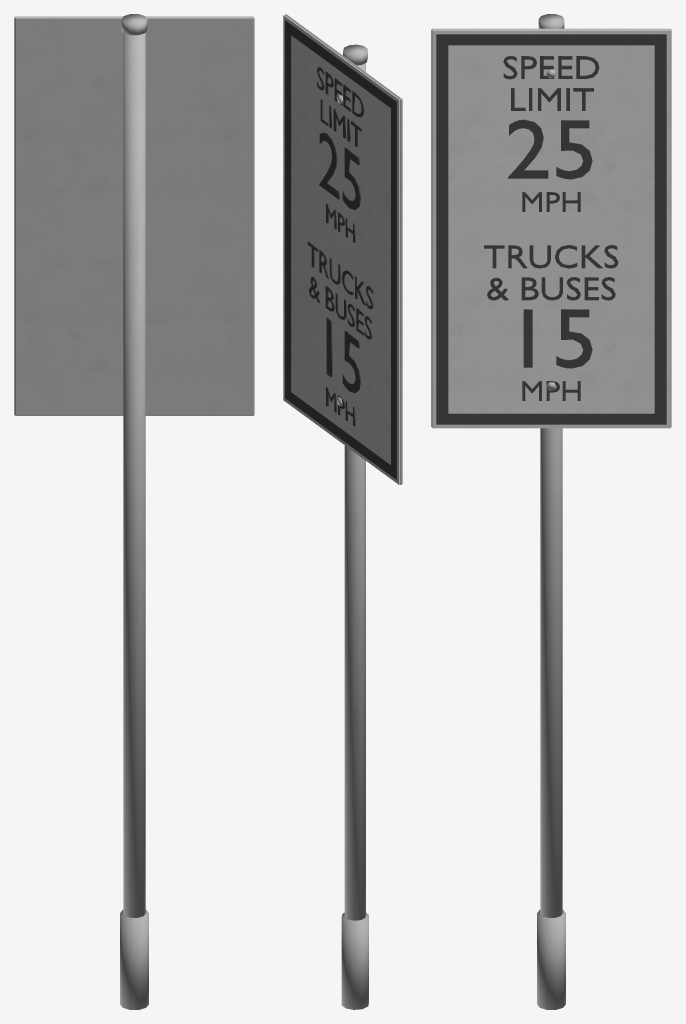
The model's file is BC2_SPEEDSIGN01.glb.
3 views of the same model, side by side, from view 1: azimuth 90°, elevation 25°; view 2: azimuth 210°, elevation 25°; view 3: azimuth 270°, elevation 25° (orthographic). The views are drawn at different scales.
Visible parts, largest first — view 1: BC2_SPEEDSIGN01_galv; view 2: BC2_SPEEDSIGN01_sheeting, BC2_SPEEDSIGN01_galv, BC2_SPEEDSIGN01_ink; view 3: BC2_SPEEDSIGN01_sheeting, BC2_SPEEDSIGN01_ink, BC2_SPEEDSIGN01_galv.
Boxes of the visible parts, x1,y1,x2,y2 form: BC2_SPEEDSIGN01_galv: [14, 14, 254, 1009]; BC2_SPEEDSIGN01_sheeting: [283, 15, 399, 484]; BC2_SPEEDSIGN01_galv: [285, 14, 402, 1009]; BC2_SPEEDSIGN01_ink: [285, 20, 396, 479]; BC2_SPEEDSIGN01_sheeting: [432, 30, 670, 428]; BC2_SPEEDSIGN01_ink: [436, 34, 666, 424]; BC2_SPEEDSIGN01_galv: [431, 14, 671, 1009].
Bounding box in the file's own units: 0.0831 × 2.72 × 0.6.
Materials: 3 (3 with a texture image).
